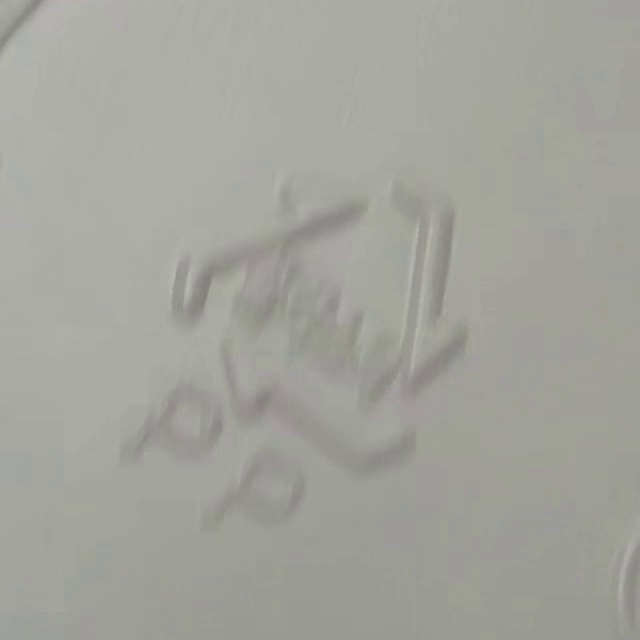Plastic: (173, 181, 465, 466)
